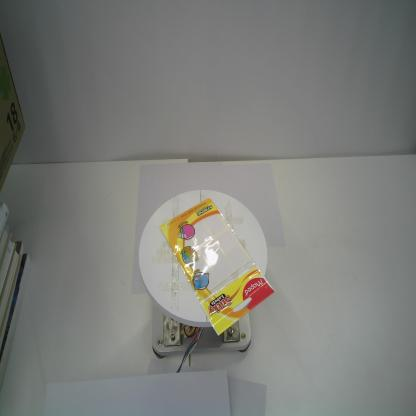Stationery: (156, 196, 276, 337)
